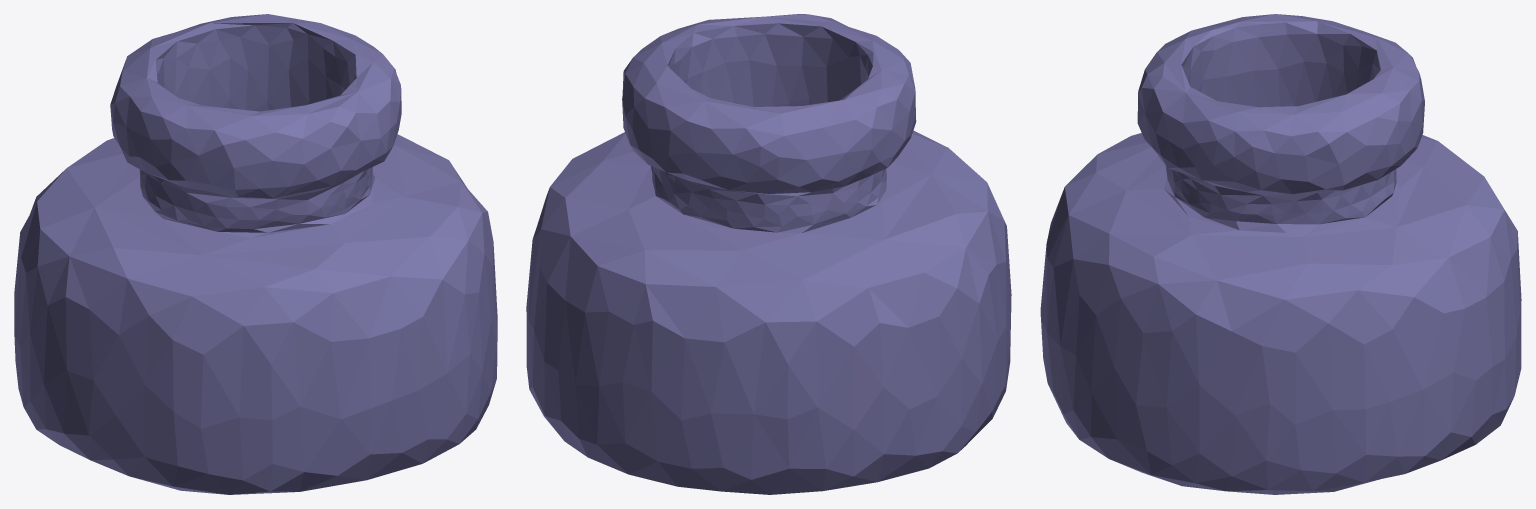
File: bottleTest.fbx
3 renders of one model, left to right at view 1: azimuth 30°, elevation 25°; view 2: azimuth 150°, elevation 25°; view 3: azimuth 270°, elevation 25°, orthographic.
Parts seen in each view (by area): view 1: BottleLowpoly; view 2: BottleLowpoly; view 3: BottleLowpoly.
Part boxes in pixels (bbox=[...]): BottleLowpoly: bbox=[14, 14, 497, 494]; BottleLowpoly: bbox=[526, 14, 1011, 494]; BottleLowpoly: bbox=[1040, 14, 1521, 494].
Size of the model in its own units: 201 by 162 by 199.
